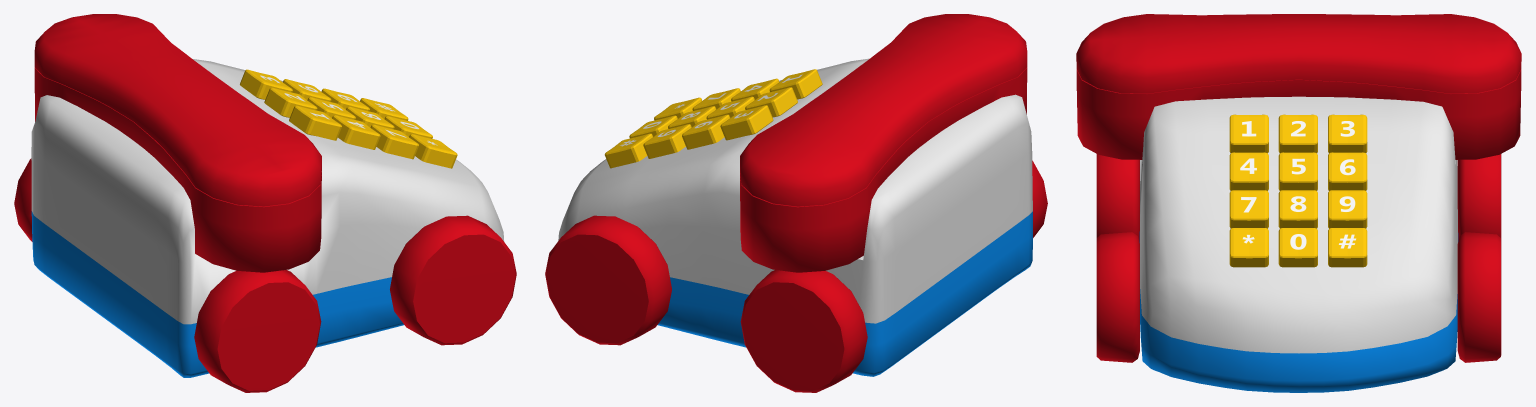
The model's file is telephone_5feecd53.glb.
The picture shows the model from 3 angles, left to right: view 1: azimuth 30°, elevation 25°; view 2: azimuth 150°, elevation 25°; view 3: azimuth 270°, elevation 25°; orthographic projection.
Visible parts, largest first — view 1: Base_0, Telephone_2, Wheels_1, Key_3; view 2: Base_0, Telephone_2, Wheels_1, Key_3; view 3: Base_0, Telephone_2, Wheels_1, Key_3.
Boxes of the visible parts, <box> form: Base_0: <box>31,59,504,377</box>; Telephone_2: <box>34,14,321,272</box>; Wheels_1: <box>14,158,516,392</box>; Key_3: <box>240,69,457,168</box>; Base_0: <box>558,58,1032,376</box>; Telephone_2: <box>740,14,1027,272</box>; Wheels_1: <box>545,160,1047,392</box>; Key_3: <box>604,69,822,168</box>; Base_0: <box>1139,96,1458,392</box>; Telephone_2: <box>1076,14,1521,159</box>; Wheels_1: <box>1096,154,1501,362</box>; Key_3: <box>1229,114,1367,267</box>.
Bounding box in the file's own units: 1.89 × 1.15 × 1.97.
Materials: 16 (12 with a texture image).
